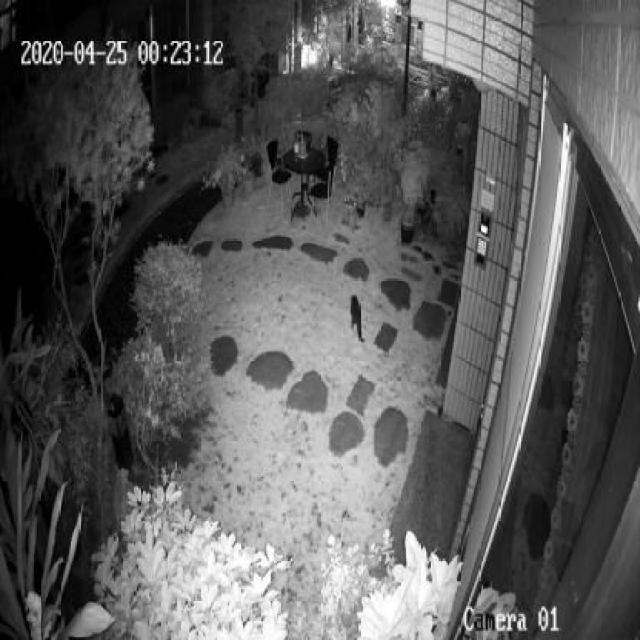animals: (346, 284, 368, 344)
